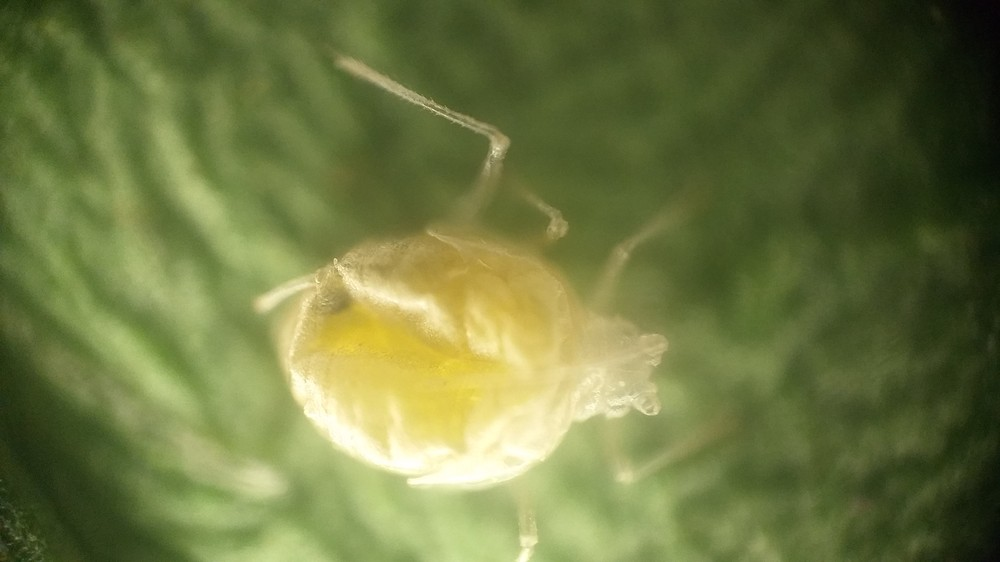Pulgon: (238, 44, 762, 554)
